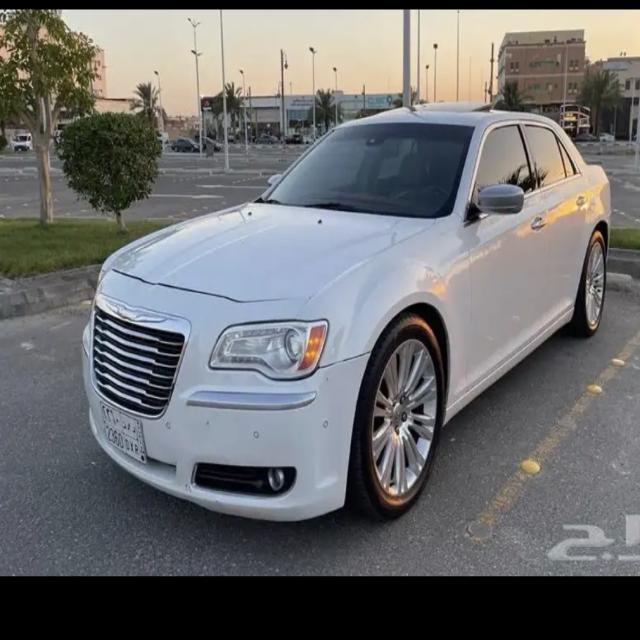license_plate: (99, 398, 148, 460)
